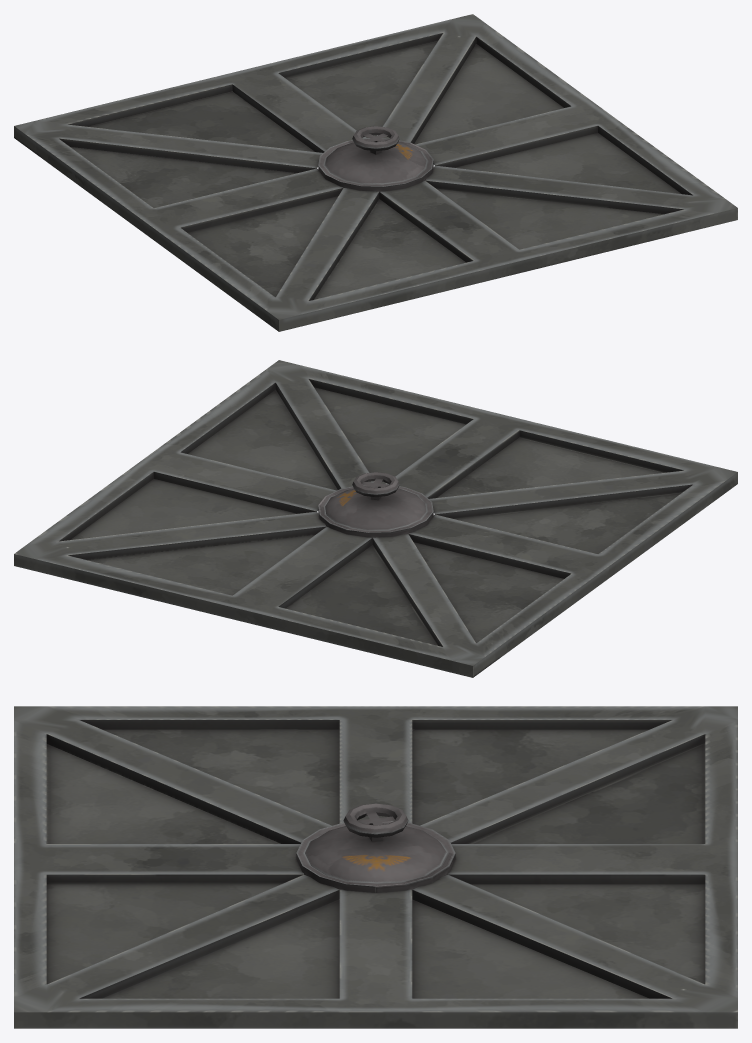
The model's file is Bunker.fbx.
3 renders of one model, top to bottom at view 1: azimuth 30°, elevation 25°; view 2: azimuth 150°, elevation 25°; view 3: azimuth 270°, elevation 25°, orthographic. The views are drawn at different scales.
Visible parts, largest first — view 1: Cube.006; view 2: Cube.006; view 3: Cube.006.
Part boxes in pixels (left/top/right/bottom): Cube.006: left=14, top=14, right=737, bottom=331; Cube.006: left=14, top=360, right=737, bottom=677; Cube.006: left=14, top=706, right=737, bottom=1028.
Size of the model in its own units: 400 by 37.18 by 400.
